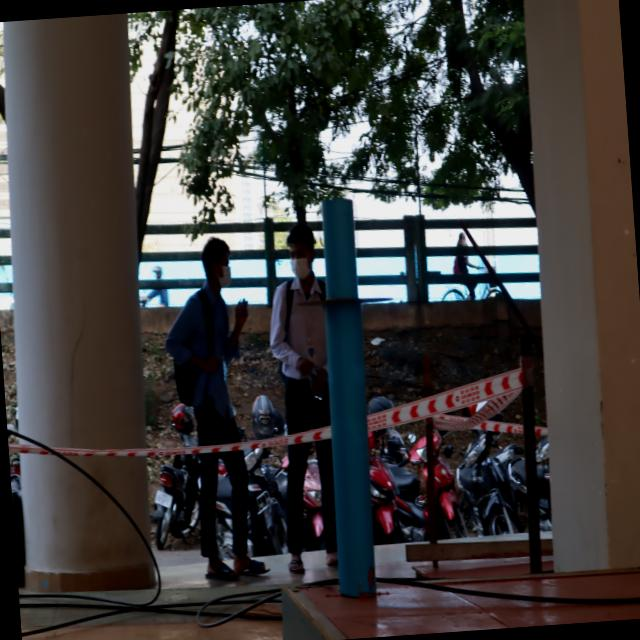pole: (294, 194, 391, 406)
